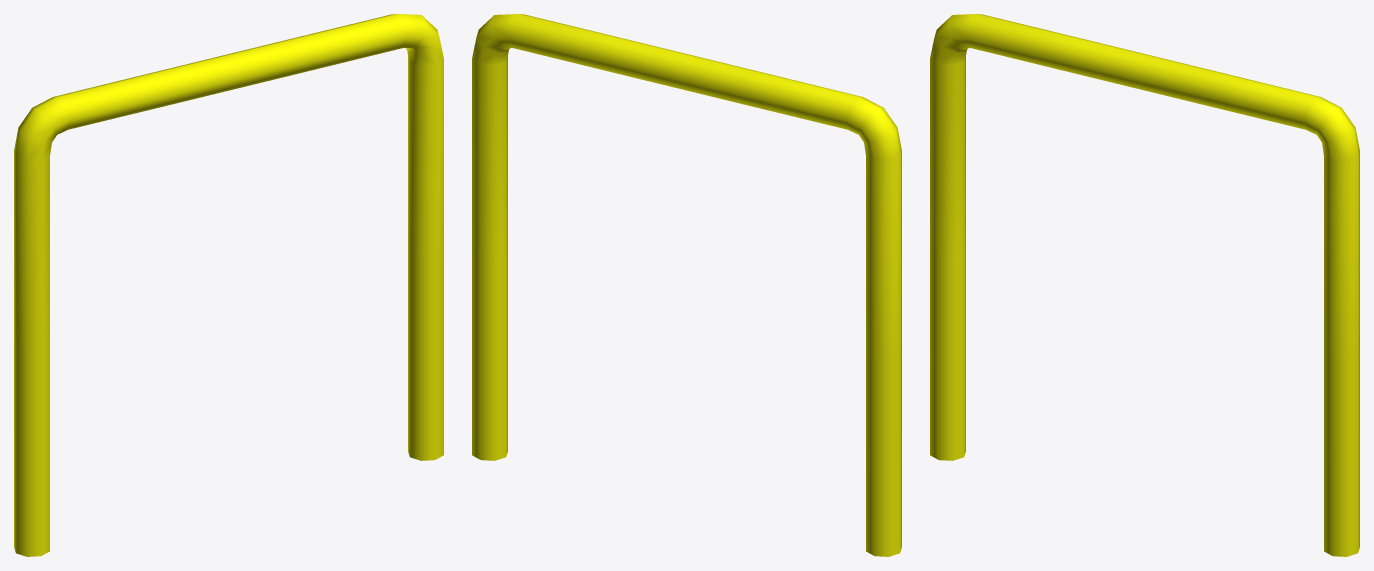
File: equipment_0011_passingarc.glb
The picture shows the model from 3 angles, left to right: view 1: azimuth 30°, elevation 25°; view 2: azimuth 150°, elevation 25°; view 3: azimuth 330°, elevation 25°; orthographic projection.
Visible parts, largest first — view 1: passingarc; view 2: passingarc; view 3: passingarc.
Part boxes in pixels (x1,y1,x2,y2): passingarc: (14, 14, 443, 556); passingarc: (472, 14, 901, 556); passingarc: (930, 14, 1359, 556).
Size of the model in its own units: 45 by 45 by 3.4.
